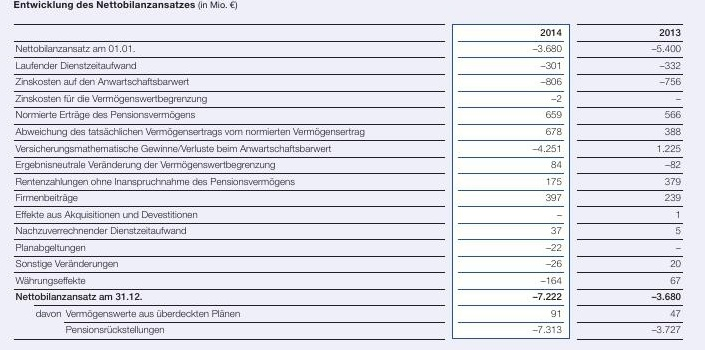table: (0, 0, 705, 350)
